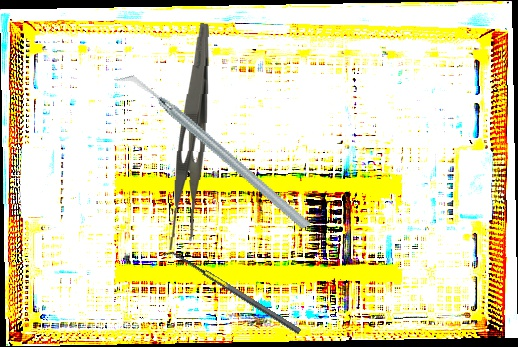Chopper: (114, 28, 313, 275)
Dressing Forceps: (165, 22, 211, 252)
Spatula Surgical: (162, 246, 302, 340)
